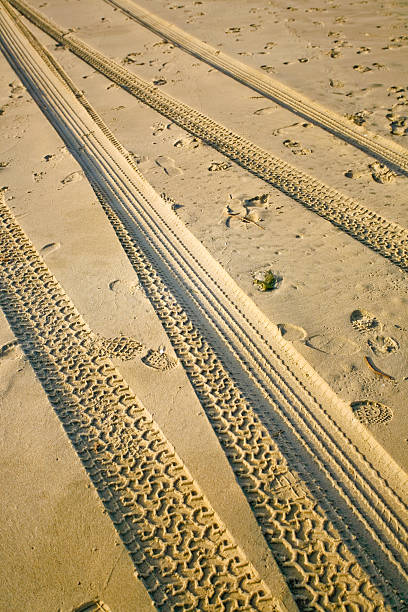vehicle_track: (1, 19, 405, 609), (0, 197, 282, 611), (10, 0, 407, 269), (104, 0, 407, 173)
